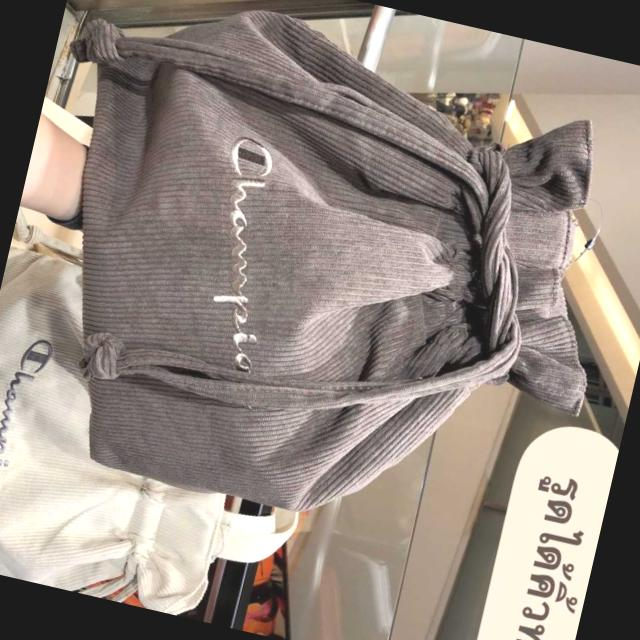Handbag: (0, 0, 640, 590)
